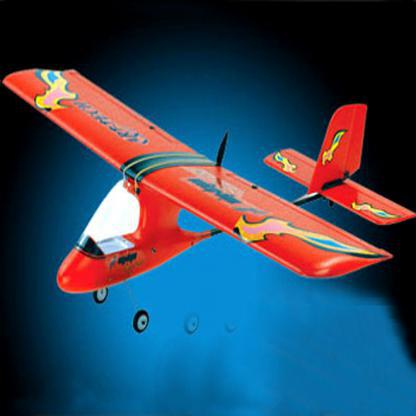CIV_Plane: (3, 53, 414, 344)
